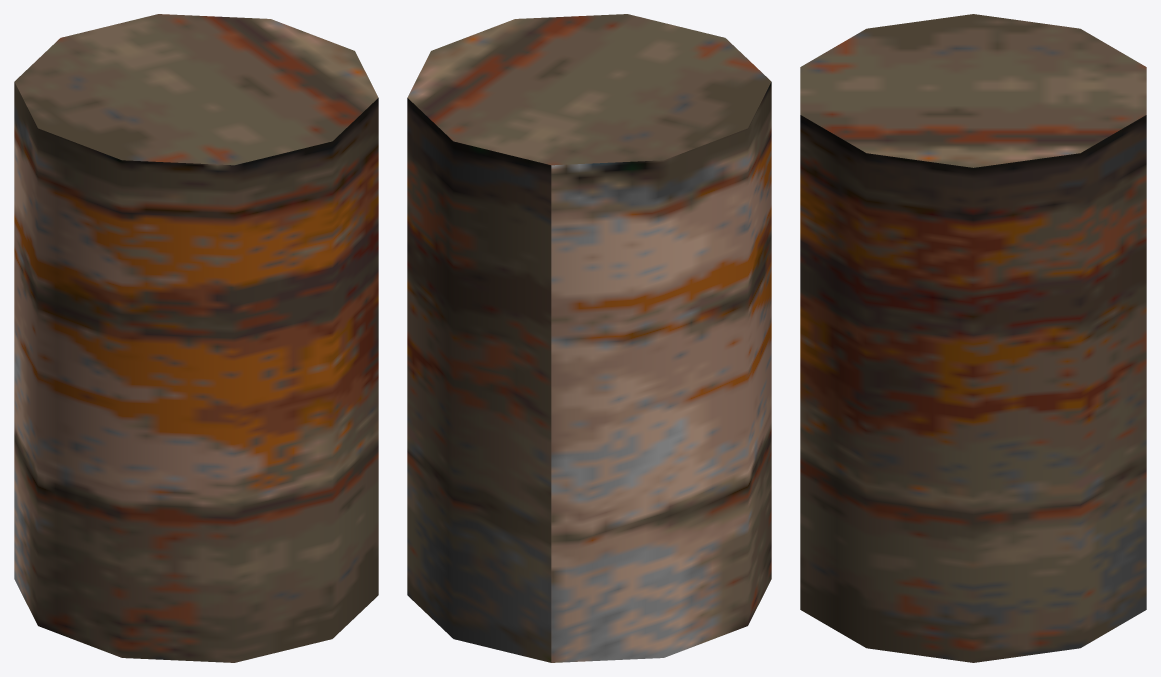
The model's file is ebarrel.FBX.
The picture shows the model from 3 angles, left to right: view 1: azimuth 30°, elevation 25°; view 2: azimuth 150°, elevation 25°; view 3: azimuth 270°, elevation 25°; orthographic projection.
Visible parts, largest first — view 1: ebarrel; view 2: ebarrel; view 3: ebarrel.
Boxes of the visible parts, x1=… form: ebarrel: x1=14, y1=14, x2=378, y2=662; ebarrel: x1=407, y1=14, x2=771, y2=662; ebarrel: x1=800, y1=14, x2=1146, y2=662.
Size of the model in its own units: 100 by 95.11 by 150.
